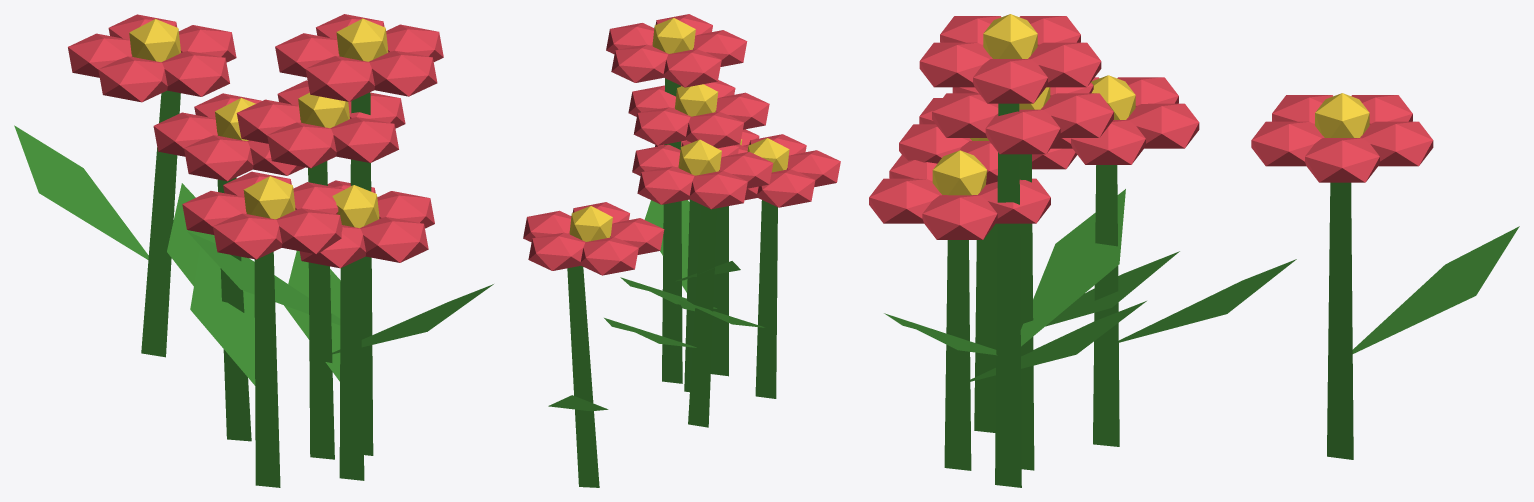
File: flowers0.glb
3 views of the same model, side by side, from view 1: azimuth 30°, elevation 25°; view 2: azimuth 150°, elevation 25°; view 3: azimuth 270°, elevation 25° (orthographic). The views are drawn at different scales.
Visible parts, largest first — view 1: flowers0; view 2: flowers0; view 3: flowers0.
Part boxes in pixels (box(x1,y1,x2,y2)): flowers0: box(14, 14, 493, 487); flowers0: box(523, 14, 840, 487); flowers0: box(869, 14, 1519, 487).
Size of the model in its own units: 0.3846 by 0.6466 by 0.8116.
